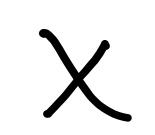mult: (39, 28, 132, 122)
